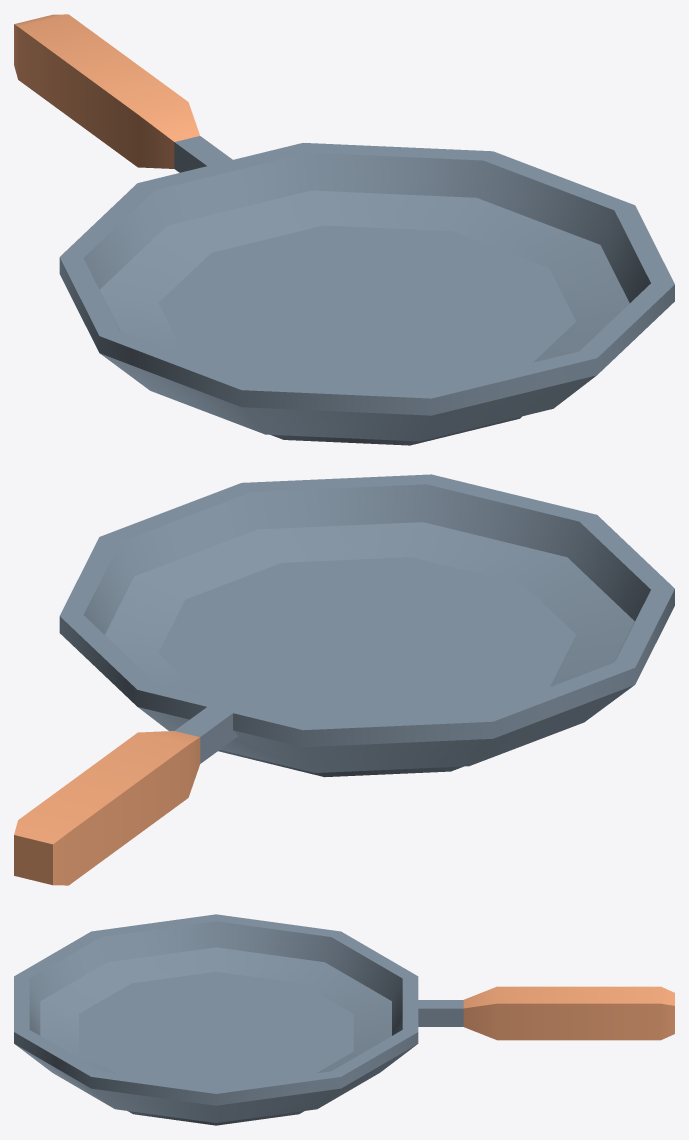
The model's file is fryingPan.obj.
The picture shows the model from 3 angles, top to bottom: view 1: azimuth 30°, elevation 25°; view 2: azimuth 150°, elevation 25°; view 3: azimuth 270°, elevation 25°; orthographic projection. The views are drawn at different scales.
Visible parts, largest first — view 1: fryingPan; view 2: fryingPan; view 3: fryingPan.
Boxes of the visible parts, x1=… form: fryingPan: x1=14, y1=14, x2=674, y2=445; fryingPan: x1=14, y1=474, x2=674, y2=885; fryingPan: x1=14, y1=914, x2=674, y2=1125.
Size of the model in its own units: 0.6574 by 0.1206 by 1.02.
